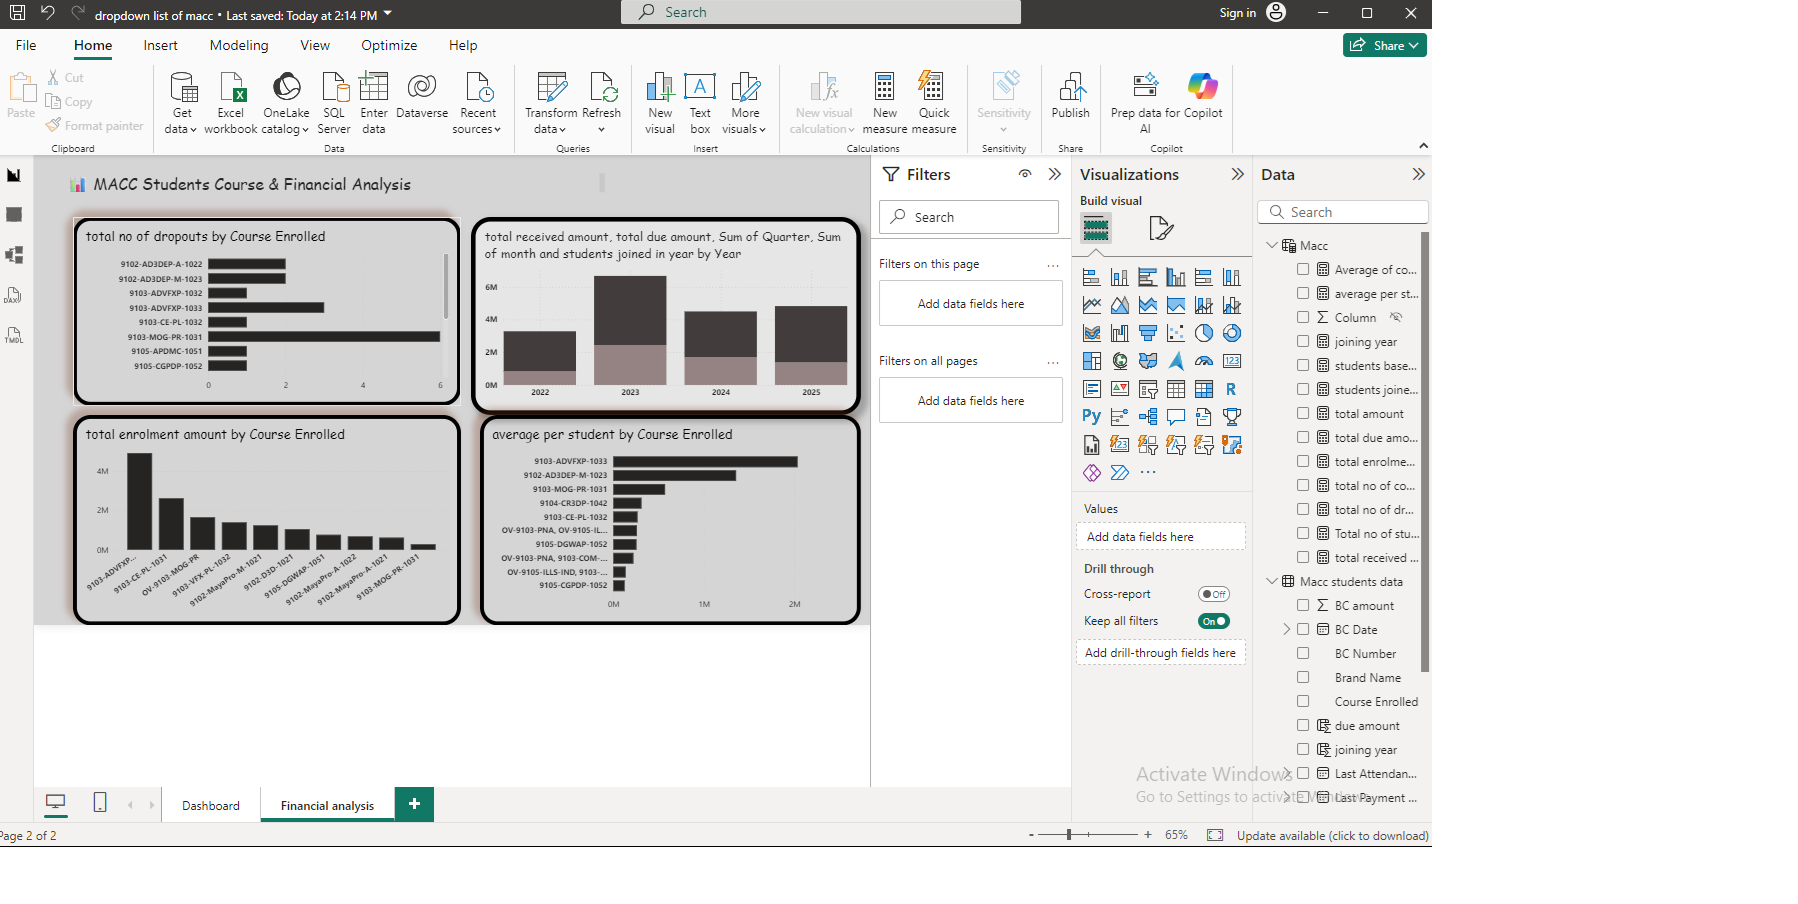

The dashboard page shown, as its layout file describes it:
{"tool":"powerbi","page":{"name":"Financial analysis","canvas":[1280,720],"ordinal":1},"visuals":[{"type":"barChart","fields":{"Category":["Macc students data.Course Enrolled"],"Y":["Macc.total no of dropouts"]},"box":[59.7,94.9,594.1,289.4],"z":0},{"type":"columnChart","fields":{"Category":["Macc students data.BC Date.Variation.Date Hierarchy.Year","Macc students data.BC Date.Variation.Date Hierarchy.Quarter","Macc students data.BC Date.Variation.Date Hierarchy.Month"],"Y":["Macc.total received amount","Macc.total due amount","Sum(Macc students data.Quarter)","Sum(Macc students data.month)","Macc.students joined in year"]},"box":[669.1,94.9,597.1,303.2],"z":1000},{"type":"clusteredColumnChart","fields":{"Y":["Macc.total enrolment amount"],"Category":["Macc students data.Course Enrolled"]},"box":[59.7,398.1,594.1,321.5],"z":2000},{"type":"clusteredBarChart","fields":{"Y":["Macc.average per student"],"Category":["Macc students data.Course Enrolled"]},"box":[682.9,398.1,583.3,321.5],"z":3000},{"type":"textbox","box":[45.9,23,832.9,41.3],"z":3001}]}

Visuals, with their boxes on the page's 1280x720 design canvas (x1, y1, x2, y2). These are canvas units, not pixel positions in the 1798x904 screenshot, which may show the page scaled, cropped or inside an application window:
barChart - Macc students data.Course Enrolled x Macc.total no of dropouts: (60, 95, 654, 384)
columnChart - Macc students data.BC Date.Variation.Date Hierarchy.Year x Macc students data.BC Date.Variation.Date Hierarchy.Quarter: (669, 95, 1266, 398)
clusteredColumnChart - Macc.total enrolment amount x Macc students data.Course Enrolled: (60, 398, 654, 720)
clusteredBarChart - Macc.average per student x Macc students data.Course Enrolled: (683, 398, 1266, 720)
textbox: (46, 23, 879, 64)
